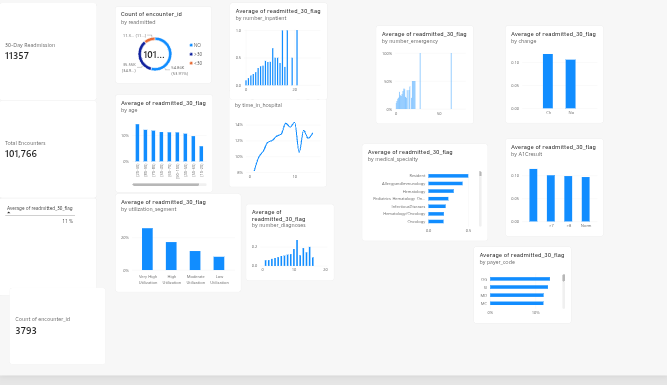

Layout of this report page (visuals, bound fields, positions):
{"tool":"powerbi","page":{"name":"Page 1","canvas":[1920,1080],"ordinal":0},"visuals":[{"type":"cardVisual","fields":{"Data":["CountNonNull(uc?export=download&id=1FDHzcaiNXNNB4aFvtNy4e4zqvFRN1R2l.encounter_id)"]},"box":[0,290.2,280,280],"z":0},{"type":"cardVisual","fields":{"Data":["Sum(uc?export=download&id=1FDHzcaiNXNNB4aFvtNy4e4zqvFRN1R2l.readmitted_30_flag)"]},"box":[0,9.8,280,280],"z":1000},{"type":"tableEx","fields":{"Values":["Avg(uc?export=download&id=1FDHzcaiNXNNB4aFvtNy4e4zqvFRN1R2l.readmitted_30_flag)"]},"box":[0,570.7,280,280],"z":2000},{"type":"cardVisual","fields":{"Data":["CountNonNull(uc?export=download&id=1FDHzcaiNXNNB4aFvtNy4e4zqvFRN1R2l.encounter_id)"]},"box":[29.3,826.8,276.9,220.1],"z":3000},{"type":"donutChart","fields":{"Category":["uc?export=download&id=1FDHzcaiNXNNB4aFvtNy4e4zqvFRN1R2l.readmitted"],"Y":["CountNonNull(uc?export=download&id=1FDHzcaiNXNNB4aFvtNy4e4zqvFRN1R2l.encounter_id)"]},"box":[332.9,20.7,277,220],"z":4000},{"type":"columnChart","fields":{"Category":["uc?export=download&id=1FDHzcaiNXNNB4aFvtNy4e4zqvFRN1R2l.age"],"Y":["Avg(uc?export=download&id=1FDHzcaiNXNNB4aFvtNy4e4zqvFRN1R2l.readmitted_30_flag)"]},"box":[332.9,274.4,280,280],"z":5000},{"type":"columnChart","fields":{"Category":["uc?export=download&id=1FDHzcaiNXNNB4aFvtNy4e4zqvFRN1R2l.utilization_segment"],"Y":["Avg(uc?export=download&id=1FDHzcaiNXNNB4aFvtNy4e4zqvFRN1R2l.readmitted_30_flag)"]},"box":[332.5,557.5,361.2,282.4],"z":6000},{"type":"lineChart","fields":{"Category":["uc?export=download&id=1FDHzcaiNXNNB4aFvtNy4e4zqvFRN1R2l.time_in_hospital"],"Y":["Avg(uc?export=download&id=1FDHzcaiNXNNB4aFvtNy4e4zqvFRN1R2l.readmitted_30_flag)"]},"box":[660,260,280,280],"z":7000},{"type":"columnChart","fields":{"Category":["uc?export=download&id=1FDHzcaiNXNNB4aFvtNy4e4zqvFRN1R2l.number_emergency"],"Y":["Avg(uc?export=download&id=1FDHzcaiNXNNB4aFvtNy4e4zqvFRN1R2l.readmitted_30_flag)"]},"box":[1080,75,280,282],"z":8000},{"type":"columnChart","fields":{"Y":["Avg(uc?export=download&id=1FDHzcaiNXNNB4aFvtNy4e4zqvFRN1R2l.readmitted_30_flag)"],"Category":["uc?export=download&id=1FDHzcaiNXNNB4aFvtNy4e4zqvFRN1R2l.A1Cresult"]},"box":[1450,400,282,280],"z":9000},{"type":"columnChart","fields":{"Category":["uc?export=download&id=1FDHzcaiNXNNB4aFvtNy4e4zqvFRN1R2l.change"],"Y":["Avg(uc?export=download&id=1FDHzcaiNXNNB4aFvtNy4e4zqvFRN1R2l.readmitted_30_flag)"]},"box":[1450,75,282,280],"z":10000},{"type":"barChart","fields":{"Category":["uc?export=download&id=1FDHzcaiNXNNB4aFvtNy4e4zqvFRN1R2l.medical_specialty"],"Y":["Avg(uc?export=download&id=1FDHzcaiNXNNB4aFvtNy4e4zqvFRN1R2l.readmitted_30_flag)"]},"box":[1040,415,361,279],"z":11000},{"type":"columnChart","fields":{"Category":["uc?export=download&id=1FDHzcaiNXNNB4aFvtNy4e4zqvFRN1R2l.number_diagnoses"],"Y":["Avg(uc?export=download&id=1FDHzcaiNXNNB4aFvtNy4e4zqvFRN1R2l.readmitted_30_flag)"]},"box":[707.5,587.5,253,220],"z":12000},{"type":"clusteredColumnChart","fields":{"Category":["uc?export=download&id=1FDHzcaiNXNNB4aFvtNy4e4zqvFRN1R2l.number_inpatient"],"Y":["Avg(uc?export=download&id=1FDHzcaiNXNNB4aFvtNy4e4zqvFRN1R2l.readmitted_30_flag)"]},"box":[661,11,280,279],"z":13000},{"type":"barChart","fields":{"Category":["uc?export=download&id=1FDHzcaiNXNNB4aFvtNy4e4zqvFRN1R2l.payer_code"],"Y":["Avg(uc?export=download&id=1FDHzcaiNXNNB4aFvtNy4e4zqvFRN1R2l.readmitted_30_flag)"]},"box":[1360,710,280,220],"z":14000}]}

Visuals, with their boxes in screenshot pixels (x1, y1, x2, y2), scaled from the page's 1920x1080 canvas onto the 667x385 screenshot:
cardVisual - CountNonNull(uc?export=download&id=1FDHzcaiNXNNB4aFvtNy4e4zqvFRN1R2l.encounter_id): x1=0 y1=103 x2=97 y2=203
cardVisual - Sum(uc?export=download&id=1FDHzcaiNXNNB4aFvtNy4e4zqvFRN1R2l.readmitted_30_flag): x1=0 y1=3 x2=97 y2=103
tableEx - Avg(uc?export=download&id=1FDHzcaiNXNNB4aFvtNy4e4zqvFRN1R2l.readmitted_30_flag): x1=0 y1=203 x2=97 y2=303
cardVisual - CountNonNull(uc?export=download&id=1FDHzcaiNXNNB4aFvtNy4e4zqvFRN1R2l.encounter_id): x1=10 y1=295 x2=106 y2=373
donutChart - uc?export=download&id=1FDHzcaiNXNNB4aFvtNy4e4zqvFRN1R2l.readmitted x CountNonNull(uc?export=download&id=1FDHzcaiNXNNB4aFvtNy4e4zqvFRN1R2l.encounter_id): x1=116 y1=7 x2=212 y2=86
columnChart - uc?export=download&id=1FDHzcaiNXNNB4aFvtNy4e4zqvFRN1R2l.age x Avg(uc?export=download&id=1FDHzcaiNXNNB4aFvtNy4e4zqvFRN1R2l.readmitted_30_flag): x1=116 y1=98 x2=213 y2=198
columnChart - uc?export=download&id=1FDHzcaiNXNNB4aFvtNy4e4zqvFRN1R2l.utilization_segment x Avg(uc?export=download&id=1FDHzcaiNXNNB4aFvtNy4e4zqvFRN1R2l.readmitted_30_flag): x1=116 y1=199 x2=241 y2=299
lineChart - uc?export=download&id=1FDHzcaiNXNNB4aFvtNy4e4zqvFRN1R2l.time_in_hospital x Avg(uc?export=download&id=1FDHzcaiNXNNB4aFvtNy4e4zqvFRN1R2l.readmitted_30_flag): x1=229 y1=93 x2=327 y2=192
columnChart - uc?export=download&id=1FDHzcaiNXNNB4aFvtNy4e4zqvFRN1R2l.number_emergency x Avg(uc?export=download&id=1FDHzcaiNXNNB4aFvtNy4e4zqvFRN1R2l.readmitted_30_flag): x1=375 y1=27 x2=472 y2=127
columnChart - Avg(uc?export=download&id=1FDHzcaiNXNNB4aFvtNy4e4zqvFRN1R2l.readmitted_30_flag) x uc?export=download&id=1FDHzcaiNXNNB4aFvtNy4e4zqvFRN1R2l.A1Cresult: x1=504 y1=143 x2=602 y2=242
columnChart - uc?export=download&id=1FDHzcaiNXNNB4aFvtNy4e4zqvFRN1R2l.change x Avg(uc?export=download&id=1FDHzcaiNXNNB4aFvtNy4e4zqvFRN1R2l.readmitted_30_flag): x1=504 y1=27 x2=602 y2=127
barChart - uc?export=download&id=1FDHzcaiNXNNB4aFvtNy4e4zqvFRN1R2l.medical_specialty x Avg(uc?export=download&id=1FDHzcaiNXNNB4aFvtNy4e4zqvFRN1R2l.readmitted_30_flag): x1=361 y1=148 x2=487 y2=247
columnChart - uc?export=download&id=1FDHzcaiNXNNB4aFvtNy4e4zqvFRN1R2l.number_diagnoses x Avg(uc?export=download&id=1FDHzcaiNXNNB4aFvtNy4e4zqvFRN1R2l.readmitted_30_flag): x1=246 y1=209 x2=334 y2=288
clusteredColumnChart - uc?export=download&id=1FDHzcaiNXNNB4aFvtNy4e4zqvFRN1R2l.number_inpatient x Avg(uc?export=download&id=1FDHzcaiNXNNB4aFvtNy4e4zqvFRN1R2l.readmitted_30_flag): x1=230 y1=4 x2=327 y2=103
barChart - uc?export=download&id=1FDHzcaiNXNNB4aFvtNy4e4zqvFRN1R2l.payer_code x Avg(uc?export=download&id=1FDHzcaiNXNNB4aFvtNy4e4zqvFRN1R2l.readmitted_30_flag): x1=472 y1=253 x2=570 y2=332
